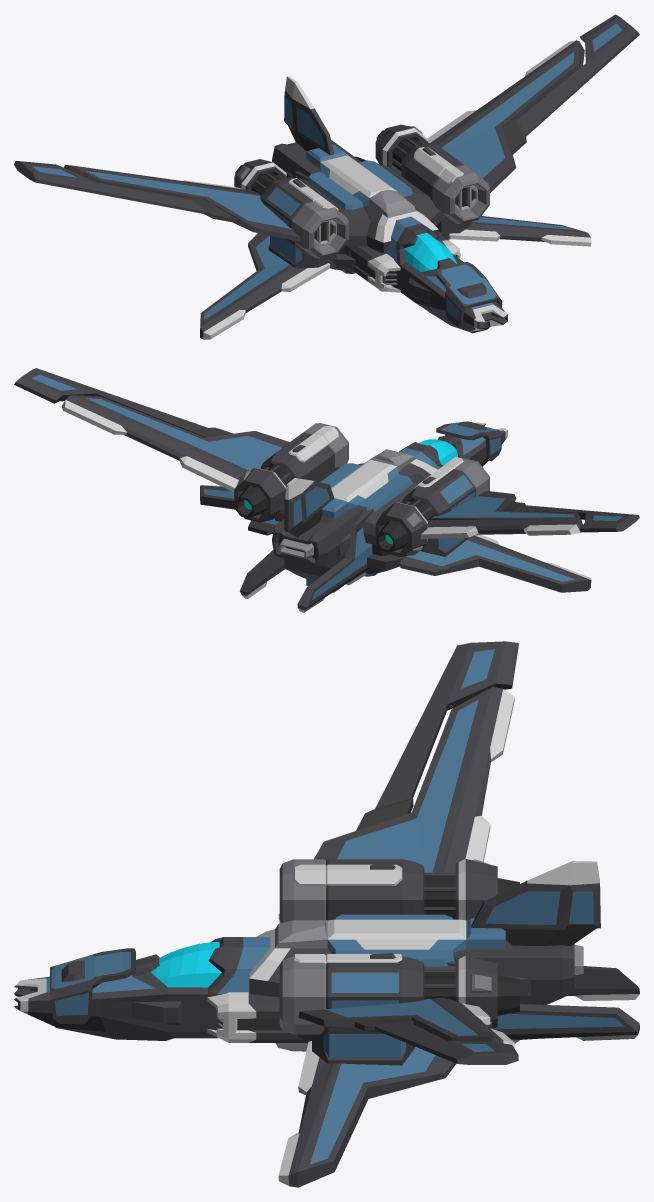
Rendered from Space_Ship.glb.
3 views of the same model, one above another, from view 1: azimuth 30°, elevation 25°; view 2: azimuth 150°, elevation 25°; view 3: azimuth 270°, elevation 25° (orthographic). The views are drawn at different scales.
Visible parts, largest first — view 1: SM_Ship_Fighter_03; view 2: SM_Ship_Fighter_03; view 3: SM_Ship_Fighter_03.
Boxes of the visible parts, box(x1,y1,x2,y2) form: SM_Ship_Fighter_03: box(14, 14, 639, 339); SM_Ship_Fighter_03: box(14, 368, 639, 612); SM_Ship_Fighter_03: box(14, 641, 639, 1187).
Size of the model in its own units: 1.97 by 0.4589 by 1.25.
1 material, 1 textured.
